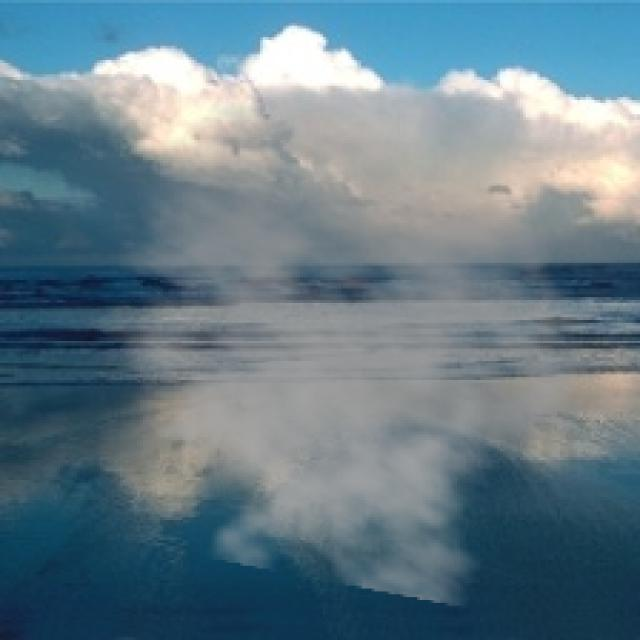smoke: (69, 94, 608, 609)
